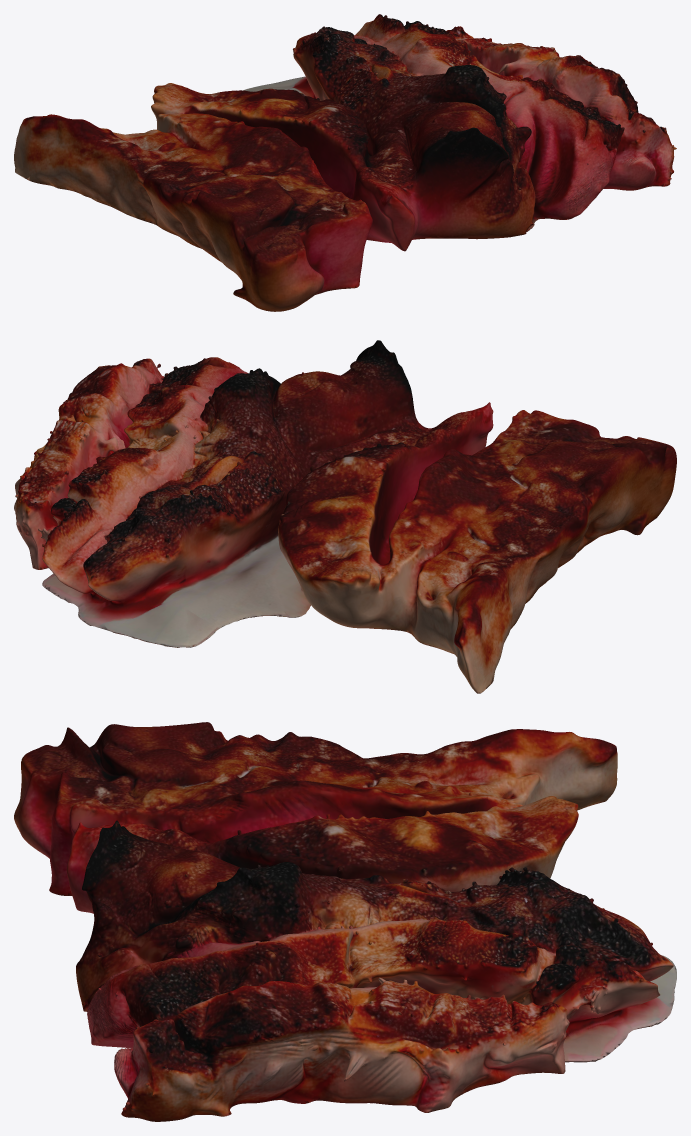
Rendered from aspas-ancho.glb.
3 views of the same model, one above another, from view 1: azimuth 30°, elevation 25°; view 2: azimuth 150°, elevation 25°; view 3: azimuth 270°, elevation 25° (orthographic). The views are drawn at different scales.
Visible parts, largest first — view 1: tripo_node_e4759228-1089-480b-8f45-e6b237759f83; view 2: tripo_node_e4759228-1089-480b-8f45-e6b237759f83; view 3: tripo_node_e4759228-1089-480b-8f45-e6b237759f83.
Boxes of the visible parts, x1,y1,x2,y2 form: tripo_node_e4759228-1089-480b-8f45-e6b237759f83: (14,14,676,311); tripo_node_e4759228-1089-480b-8f45-e6b237759f83: (14,340,676,693); tripo_node_e4759228-1089-480b-8f45-e6b237759f83: (14,722,676,1121).
Size of the model in its own units: 0.2597 by 0.0571 by 0.2212.
1 material, 1 textured.
